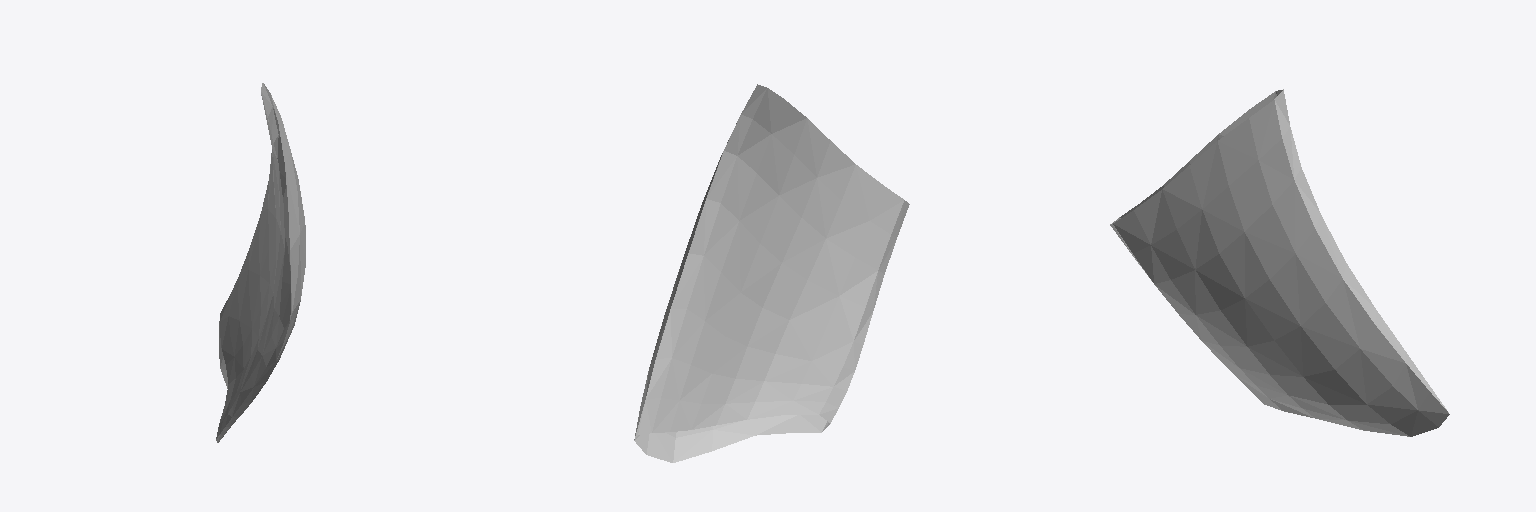
The model's file is thyrohyoid_left.obj.
3 views of the same model, side by side, from view 1: azimuth 30°, elevation 25°; view 2: azimuth 150°, elevation 25°; view 3: azimuth 270°, elevation 25° (orthographic).
Parts seen in each view (by area): view 1: Thyrohyoid_Muscle_Left; view 2: Thyrohyoid_Muscle_Left; view 3: Thyrohyoid_Muscle_Left.
Boxes of the visible parts, <box> form: Thyrohyoid_Muscle_Left: <box>216,83,305,442</box>; Thyrohyoid_Muscle_Left: <box>634,84,909,462</box>; Thyrohyoid_Muscle_Left: <box>1110,89,1449,436</box>.
Size of the model in its own units: 0.1183 by 0.3405 by 0.307.